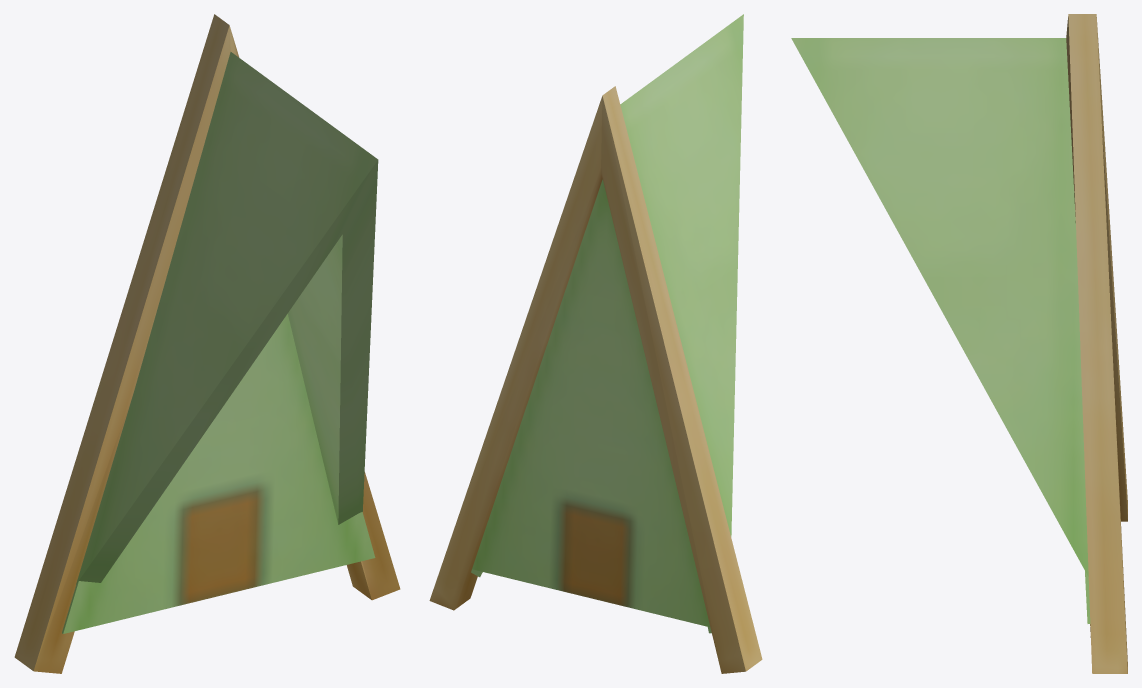
Rendered from B9Broke04.FBX.
The picture shows the model from 3 angles, left to right: view 1: azimuth 30°, elevation 25°; view 2: azimuth 150°, elevation 25°; view 3: azimuth 270°, elevation 25°; orthographic projection. The views are drawn at different scales.
Parts seen in each view (by area): view 1: B9Broke04; view 2: B9Broke04; view 3: B9Broke04.
Part boxes in pixels (x1,y1,x2,y2): B9Broke04: (14, 14, 400, 673); B9Broke04: (429, 14, 762, 673); B9Broke04: (791, 14, 1127, 673).
Size of the model in its own units: 29.38 by 47.65 by 25.08.
